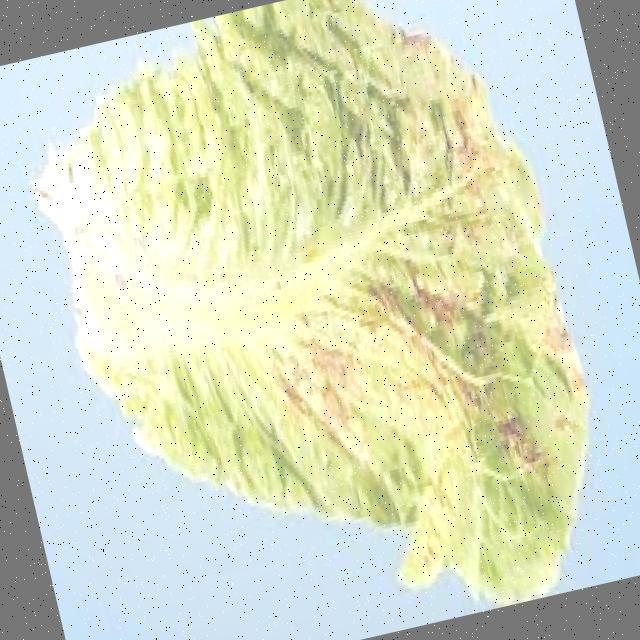Powdery_Mildew: (48, 0, 569, 520)
